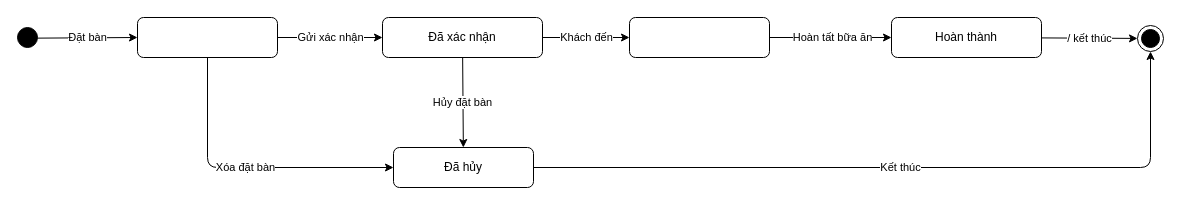
Some shapes in this 1181 by 205 pixel diagram are drawn without their labels. Each missing label, with the box of its shape:
Mới: (136, 16, 278, 58)
Đã đến: (628, 16, 770, 58)
